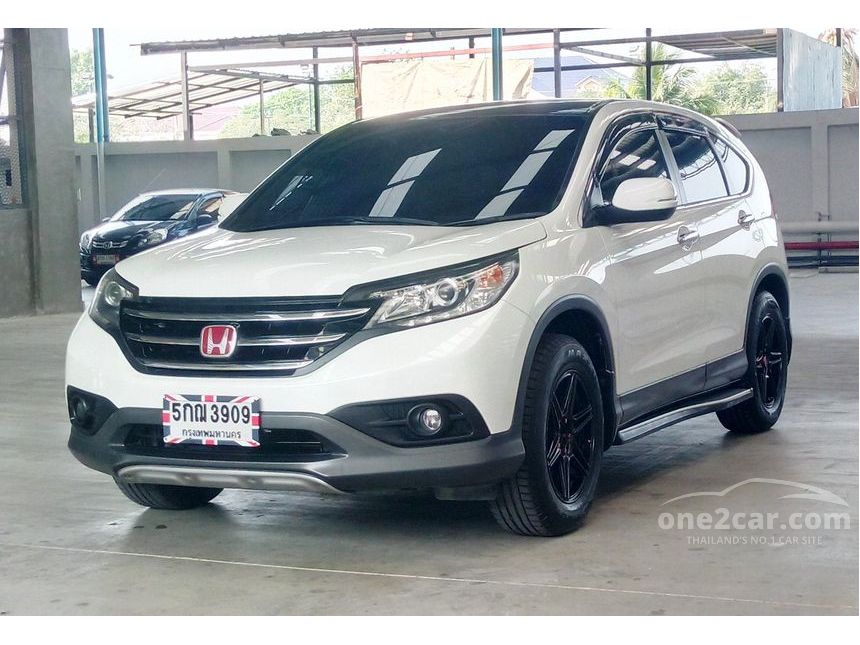pickup: (61, 94, 795, 536)
